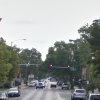Car: (7, 82, 28, 99)
